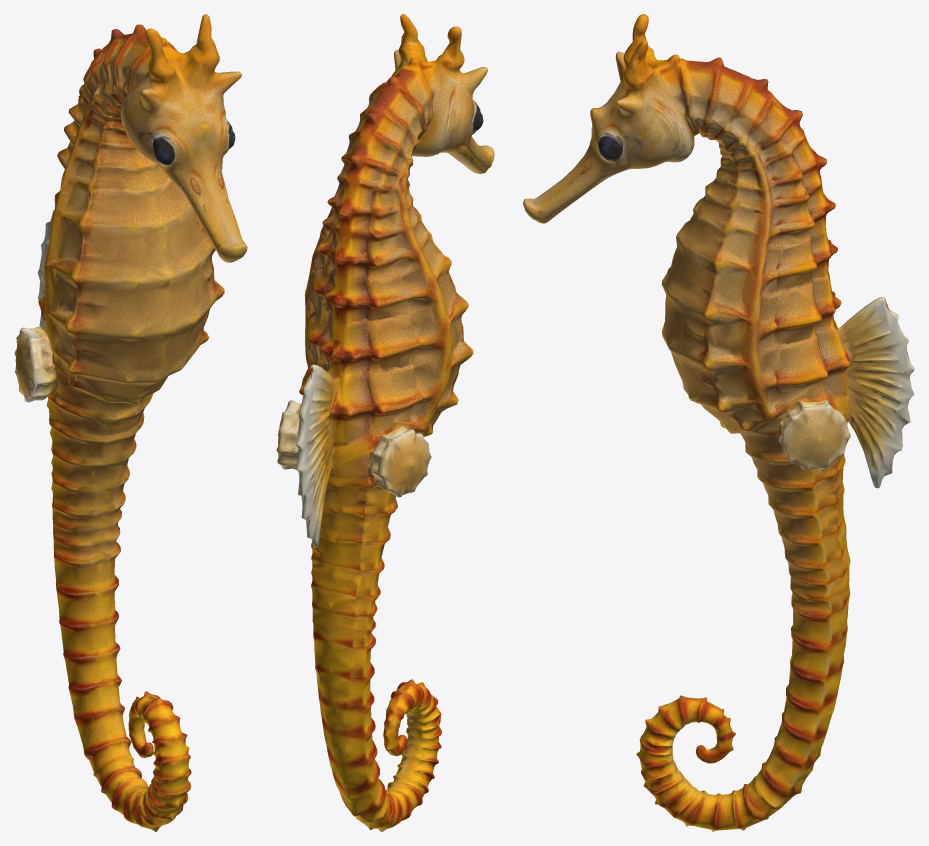
Rendered from Seahorse.glb.
The picture shows the model from 3 angles, left to right: view 1: azimuth 30°, elevation 25°; view 2: azimuth 150°, elevation 25°; view 3: azimuth 270°, elevation 25°; orthographic projection. The views are drawn at different scales.
Size of the model in its own units: 0.377 by 1.9 by 0.8403.
Materials: 1 (1 with a texture image).
